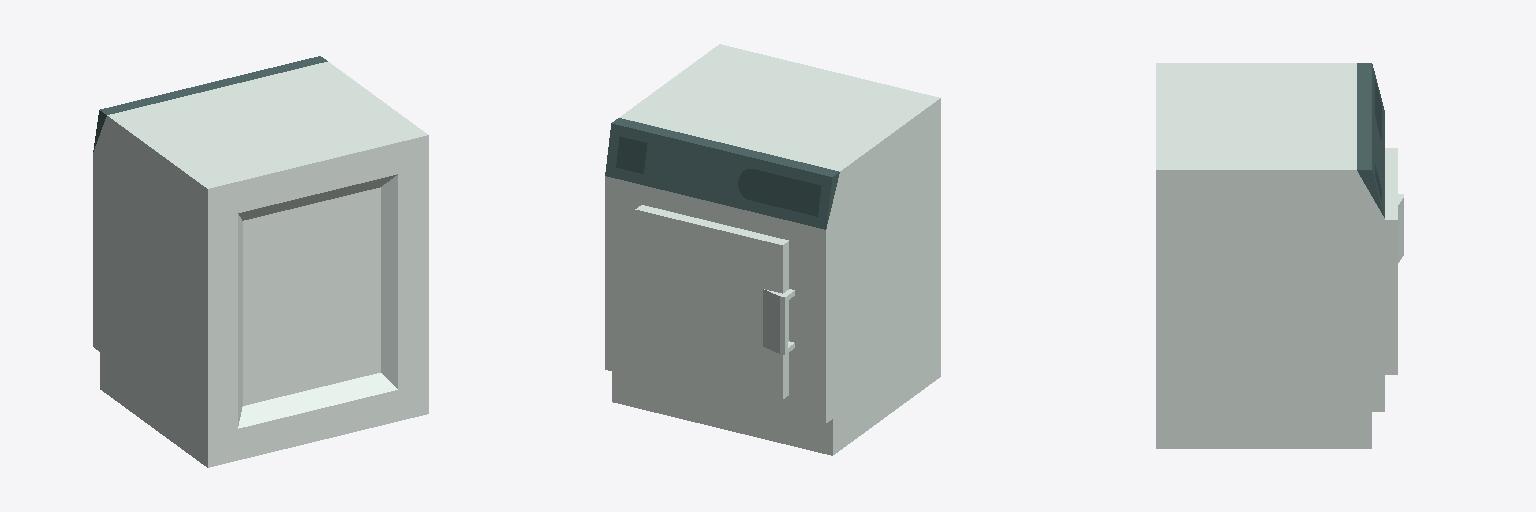
The model's file is dryer.obj.
3 views of the same model, side by side, from view 1: azimuth 30°, elevation 25°; view 2: azimuth 150°, elevation 25°; view 3: azimuth 270°, elevation 25° (orthographic).
Visible parts, largest first — view 1: dryer; view 2: dryer, dryerDoor; view 3: dryer, dryerDoor.
Part boxes in pixels (x1,y1,x2,y2): dryer: (93,56,428,467); dryer: (605,44,940,455); dryerDoor: (635,205,794,399); dryer: (1156,63,1384,448); dryerDoor: (1385,148,1403,374).
Bounding box in the file's own units: 0.39 × 0.47 × 0.38.